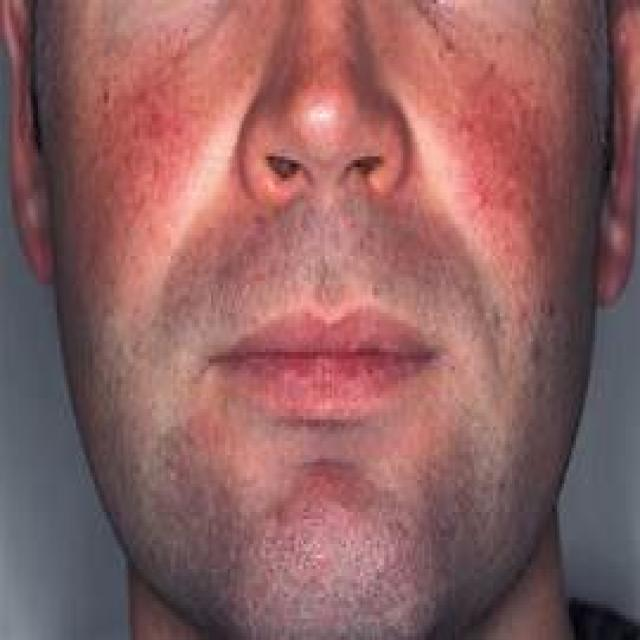Rosacea: (454, 80, 546, 241), (115, 77, 198, 190)
